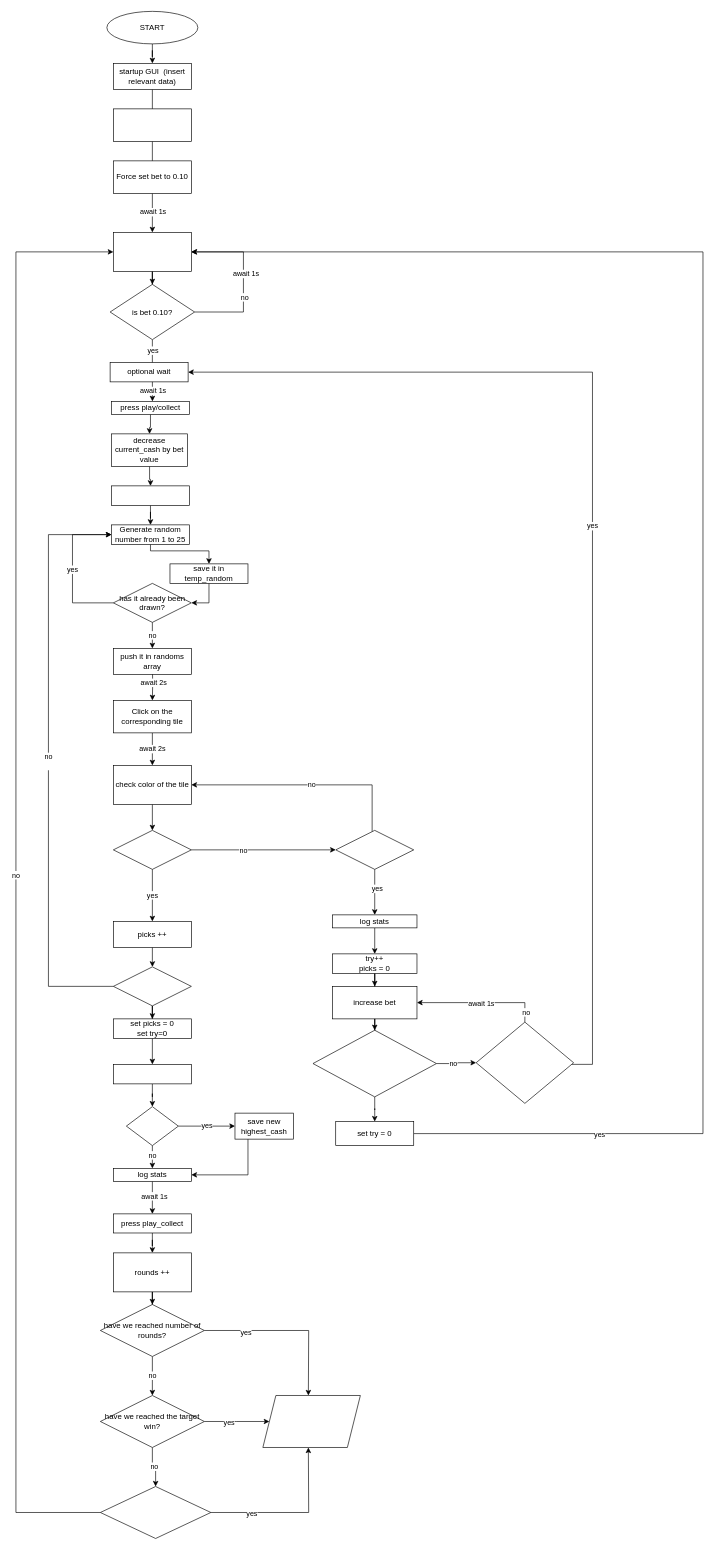
The diagram is 720 pixels wide and 1550 high, and some of its shapes have lost their labels. Here are the shapes that lost their labels. From the top down, the box of each, then its label:
(113, 108, 191, 141): Press start
(113, 232, 191, 271): decrease bet
(111, 485, 189, 505): empty randoms array
(113, 830, 191, 869): is tile blue?
(335, 830, 414, 869): is tile red?
(113, 966, 191, 1006): is picks max_picks?
(113, 1064, 191, 1084): increase cash by bet times multiplier
(312, 1030, 436, 1097): is bet higher than any value in the mode array ?
(475, 1021, 574, 1103): is bet the corresponding try value for set mode array?
(126, 1106, 178, 1146): is cash highest?
(262, 1395, 360, 1447): END GAME
(100, 1486, 211, 1538): have we reached max loss?
